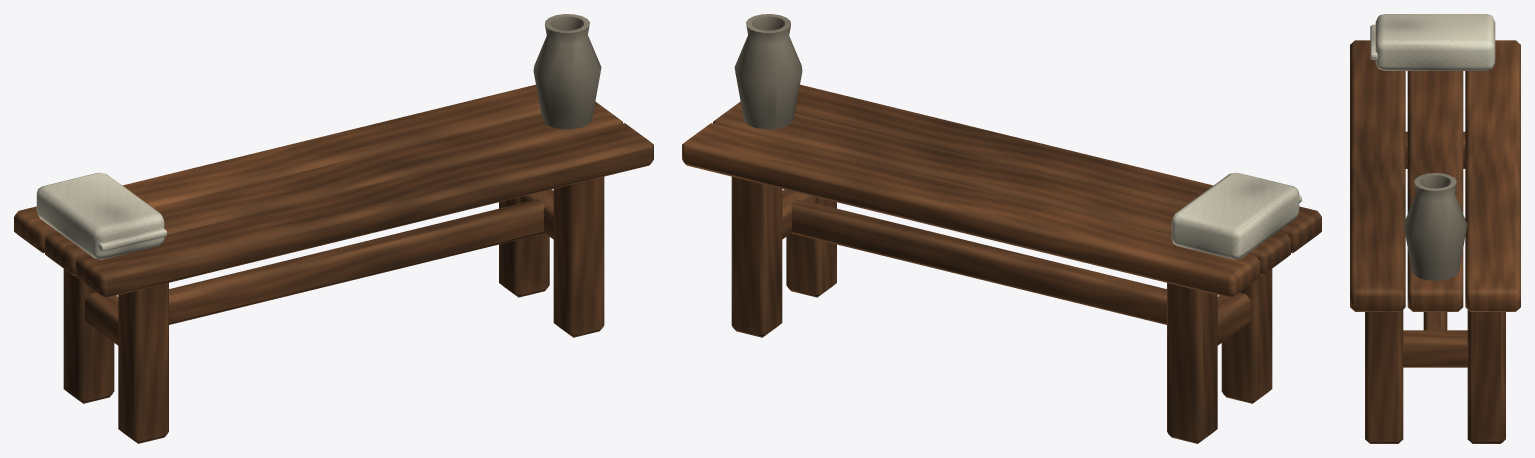
The model's file is Furn_TrainingBench.fbx.
3 renders of one model, left to right at view 1: azimuth 30°, elevation 25°; view 2: azimuth 150°, elevation 25°; view 3: azimuth 270°, elevation 25°, orthographic. The views are drawn at different scales.
Visible parts, largest first — view 1: Furn_TrainingBench; view 2: Furn_TrainingBench; view 3: Furn_TrainingBench.
Part boxes in pixels (box(x1,y1,x2,y2)): Furn_TrainingBench: box(14, 14, 653, 443); Furn_TrainingBench: box(682, 14, 1321, 443); Furn_TrainingBench: box(1350, 14, 1520, 443).
Size of the model in its own units: 1.4 by 0.68 by 0.4.
Materials: 3 (3 with a texture image).
